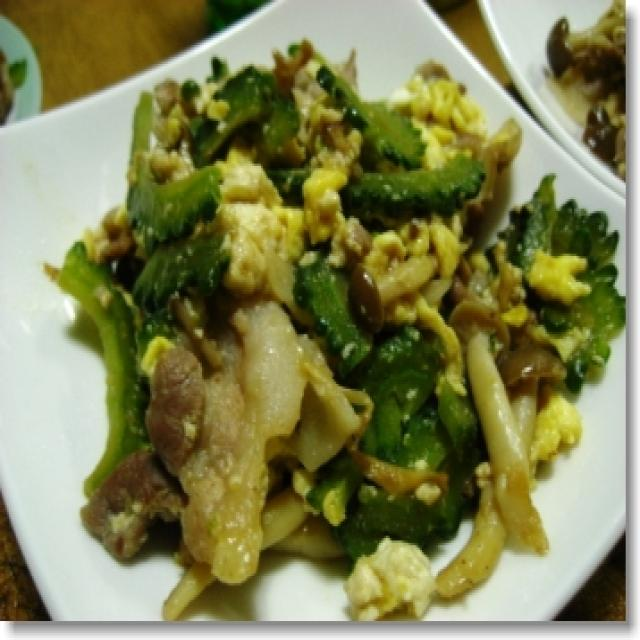熟制海鲜: (0, 0, 627, 623)
